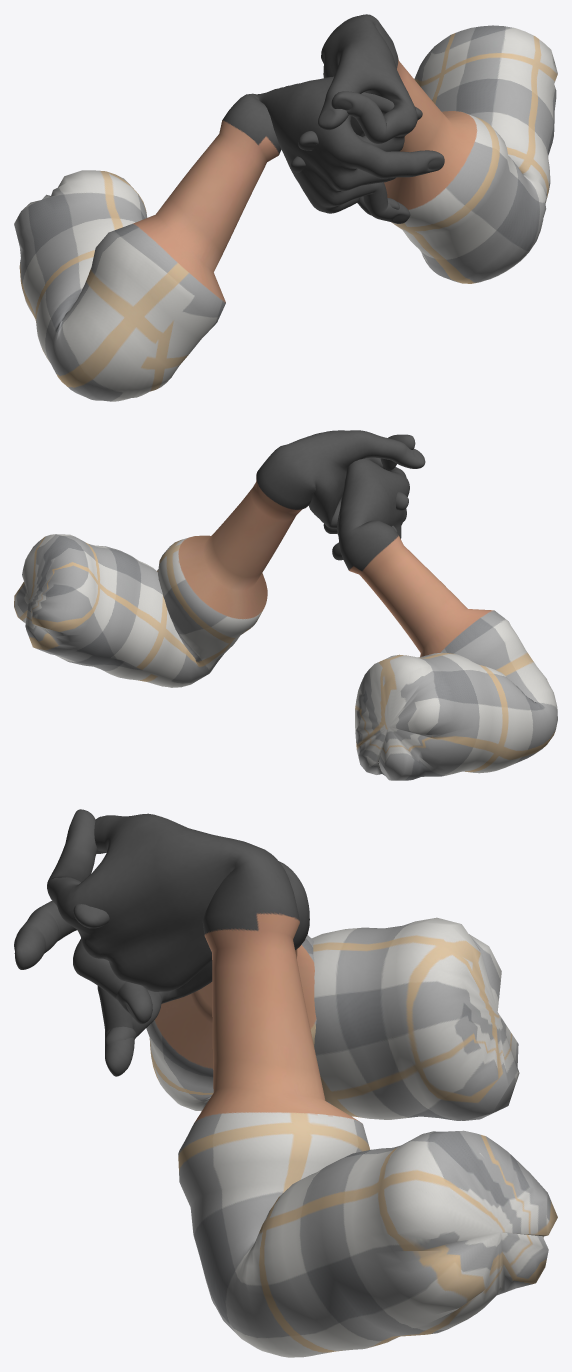
File: akinci_pistol.fbx
3 views of the same model, one above another, from view 1: azimuth 30°, elevation 25°; view 2: azimuth 150°, elevation 25°; view 3: azimuth 270°, elevation 25° (orthographic). The views are drawn at different scales.
Parts seen in each view (by area): view 1: RightArm, LeftArm; view 2: LeftArm, RightArm; view 3: LeftArm, RightArm.
Boxes of the visible parts, x1,y1,x2,y2 form: RightArm: [14, 76, 444, 401]; LeftArm: [291, 14, 557, 283]; LeftArm: [14, 430, 425, 687]; RightArm: [323, 458, 557, 780]; LeftArm: [47, 809, 557, 1357]; RightArm: [14, 861, 519, 1120].
Bounding box in the file's own units: 0.5662 × 0.3039 × 0.3418.
